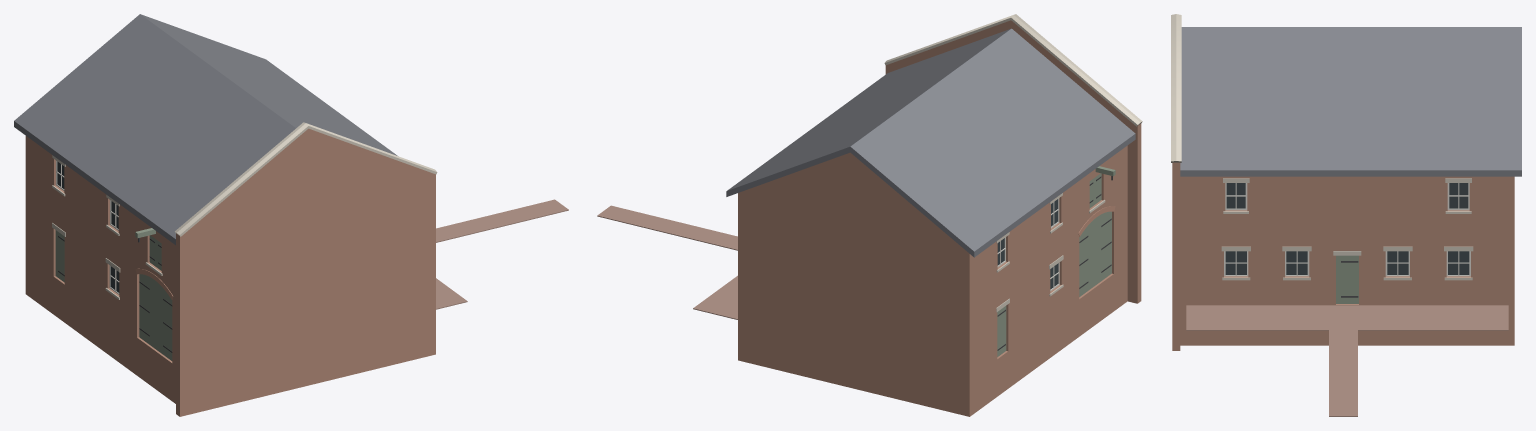
File: house_1726_prairie_coach_house__as_standing_1904.glb
3 renders of one model, left to right at view 1: azimuth 30°, elevation 25°; view 2: azimuth 150°, elevation 25°; view 3: azimuth 270°, elevation 25°, orthographic. The views are drawn at different scales.
Parts seen in each view (by area): view 1: house_1726_prairie_coach_house__as_standing_1904; view 2: house_1726_prairie_coach_house__as_standing_1904; view 3: house_1726_prairie_coach_house__as_standing_1904.
Boxes of the visible parts, x1=… form: house_1726_prairie_coach_house__as_standing_1904: x1=14, y1=14, x2=568, y2=416; house_1726_prairie_coach_house__as_standing_1904: x1=597, y1=14, x2=1142, y2=416; house_1726_prairie_coach_house__as_standing_1904: x1=1171, y1=14, x2=1521, y2=416.
Size of the model in its own units: 23.35 by 12.34 by 14.43.
